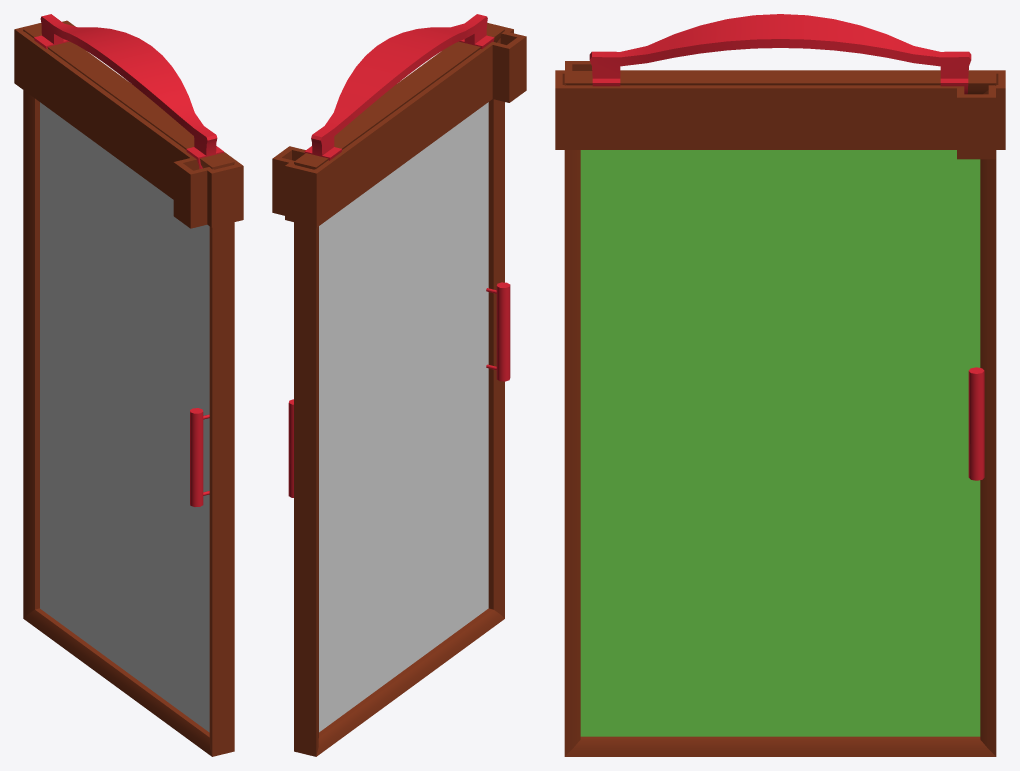
Rendered from mesh_ImageFrameV.fbx.
The picture shows the model from 3 angles, left to right: view 1: azimuth 30°, elevation 25°; view 2: azimuth 150°, elevation 25°; view 3: azimuth 270°, elevation 25°; orthographic projection. The views are drawn at different scales.
Visible parts, largest first — view 1: ImagePlaneV, FrameV, BorderV; view 2: ImagePlaneV, FrameV, BorderV; view 3: ImagePlaneV, FrameV, BorderV.
Part boxes in pixels (<box>): ImagePlaneV: <box>40,102,209,732</box>; FrameV: <box>23,14,234,756</box>; BorderV: <box>14,20,243,228</box>; ImagePlaneV: <box>288,102,510,732</box>; FrameV: <box>294,14,504,756</box>; BorderV: <box>272,23,526,227</box>; ImagePlaneV: <box>580,150,984,736</box>; FrameV: <box>564,14,996,756</box>; BorderV: <box>555,61,1005,159</box>.
Bounding box in the file's own units: 48.61 × 450 × 254.
